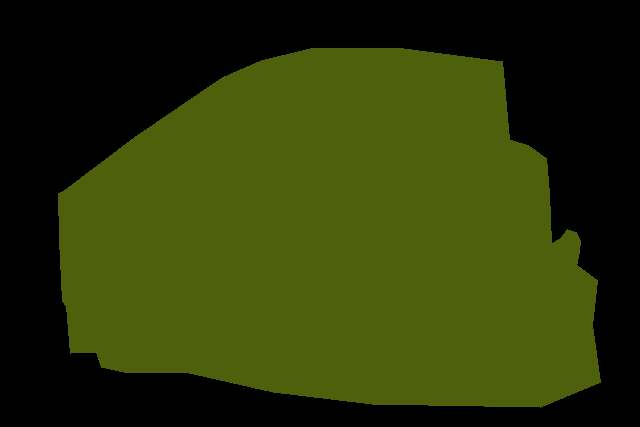Train: (58, 48, 601, 408)
